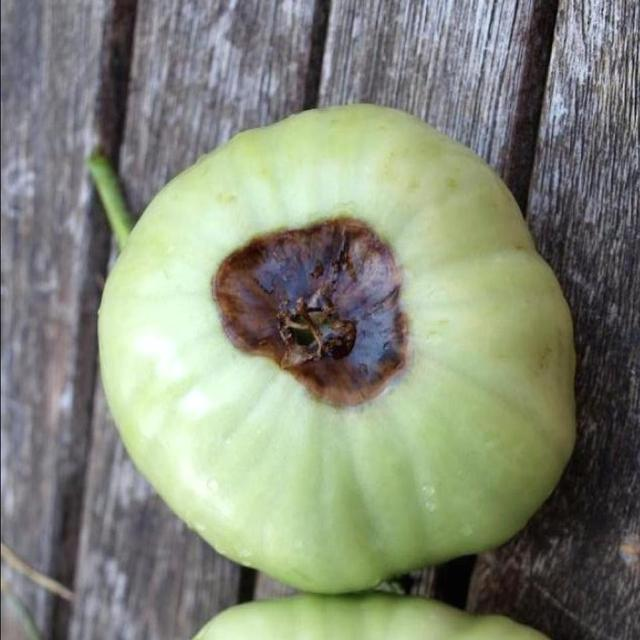Blossom End Rot Fruit: (140, 141, 271, 278)
